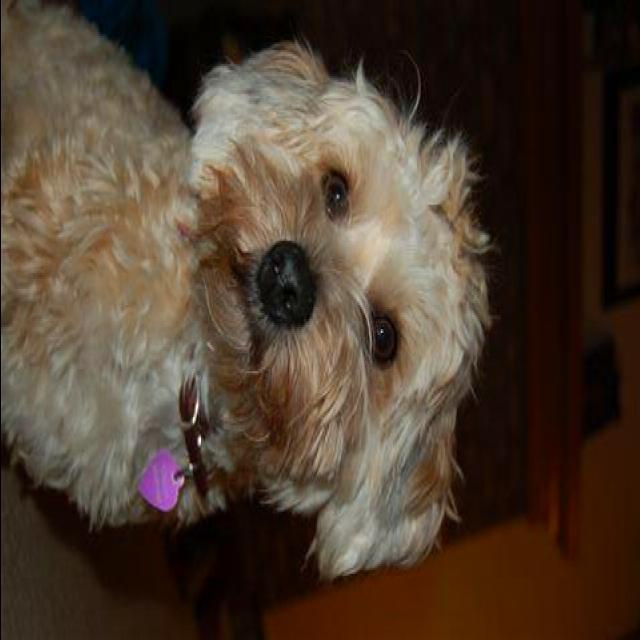shih_tzu: (3, 0, 497, 576)
